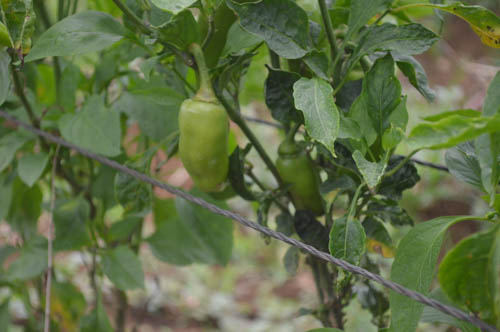ChiliPepper: (180, 100, 231, 194), (277, 157, 328, 222)
